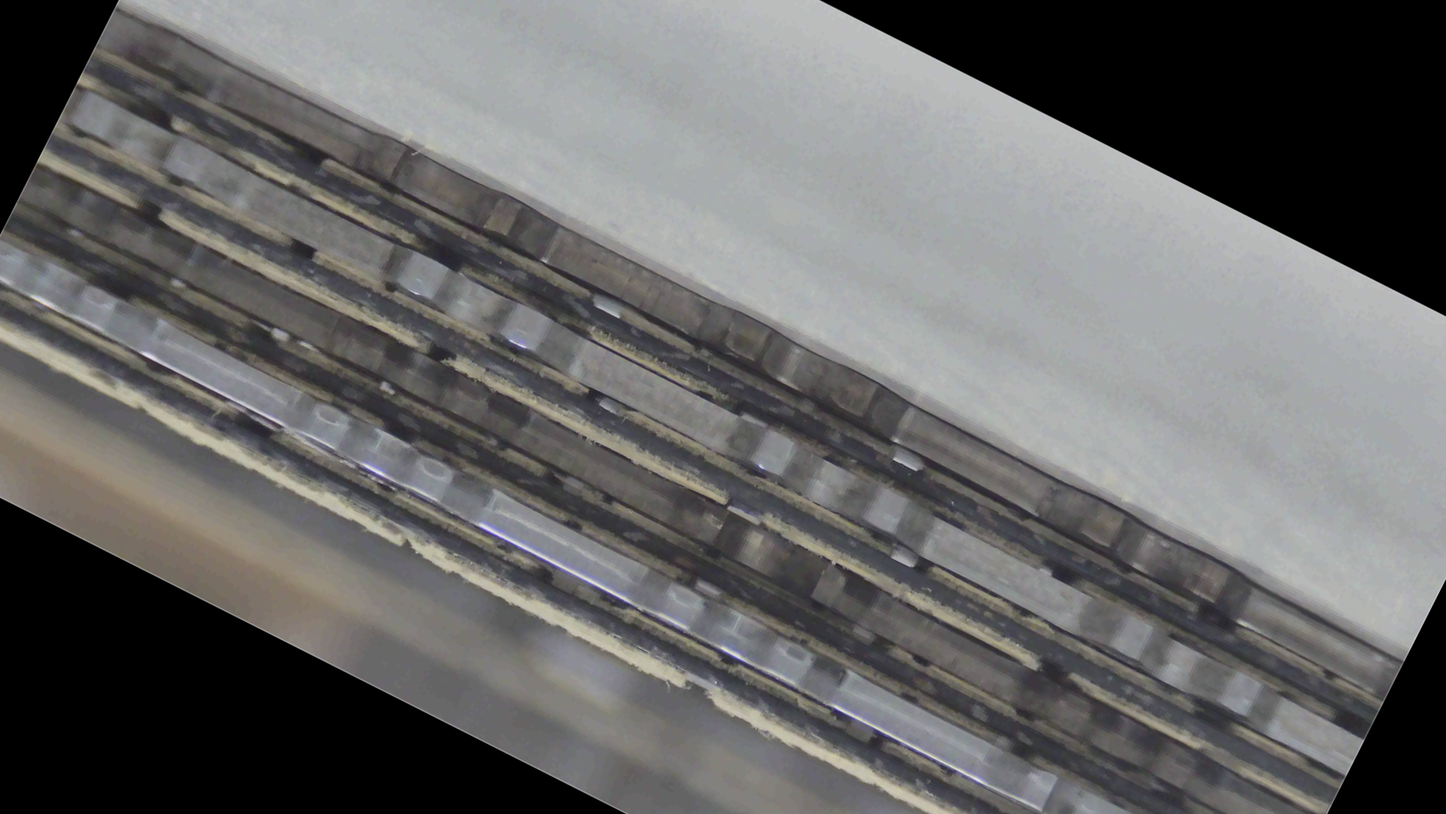Black metal plate: (106, 0, 1430, 616), (0, 442, 1445, 498)
shiney metal plate: (0, 358, 1445, 411), (0, 577, 1445, 628)
spacer: (83, 57, 1378, 722), (0, 133, 1445, 187), (3, 226, 1445, 272), (0, 319, 1445, 357)
